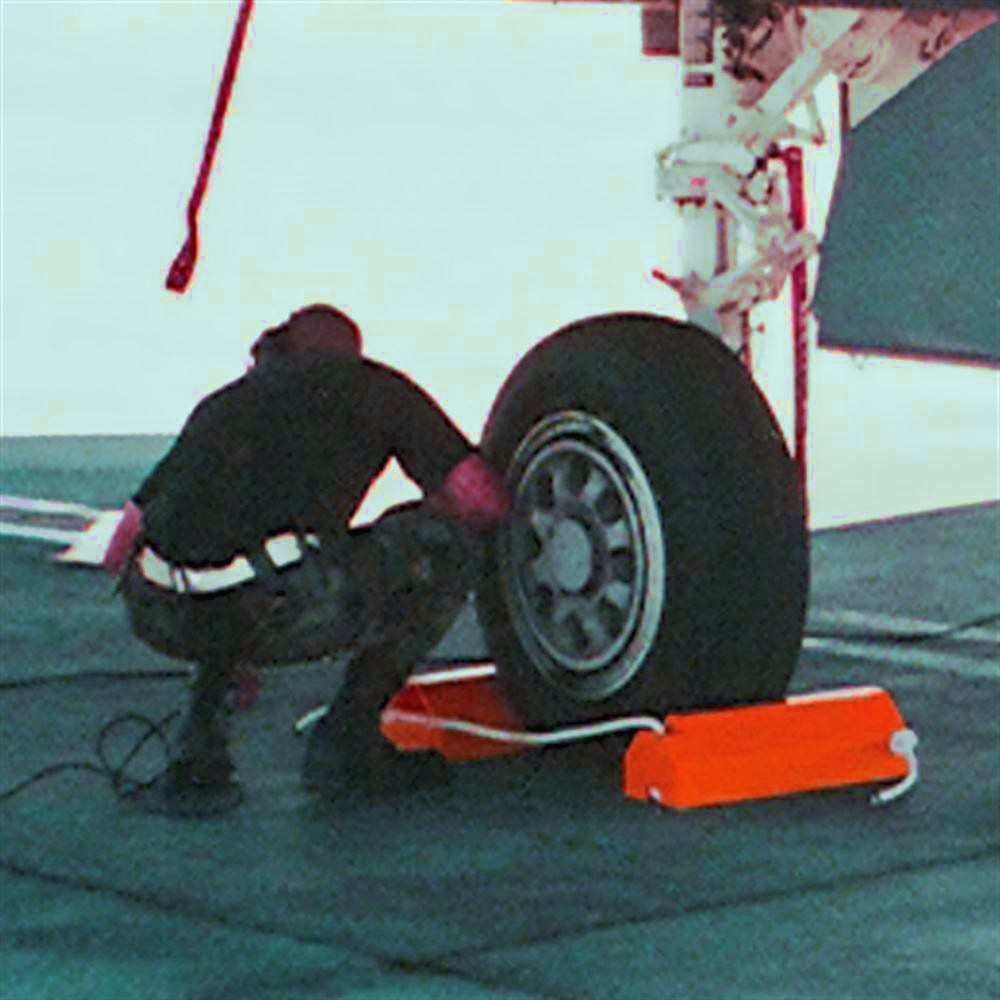chock: (619, 684, 926, 819), (367, 664, 629, 764)
wheel: (467, 313, 806, 737)
